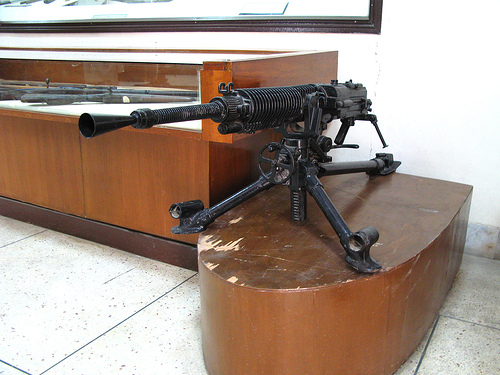rifle: (74, 70, 398, 271)
